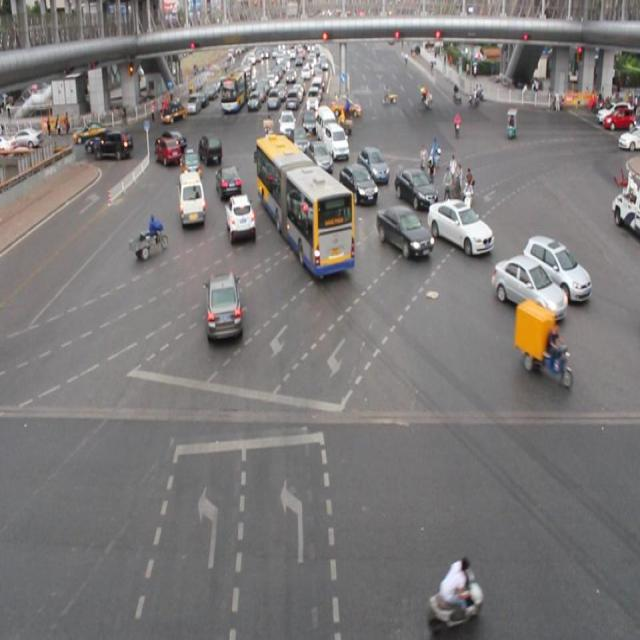car: (492, 252, 566, 318), (522, 236, 588, 300), (428, 200, 492, 252), (376, 204, 432, 258), (207, 271, 242, 341), (394, 167, 436, 209), (338, 164, 376, 205), (224, 194, 254, 242), (94, 131, 132, 162), (357, 146, 387, 182), (216, 164, 242, 199), (198, 133, 222, 168), (153, 136, 180, 167), (305, 142, 332, 172), (179, 148, 201, 180)
truck: (179, 169, 205, 226)
van: (256, 137, 354, 274)
